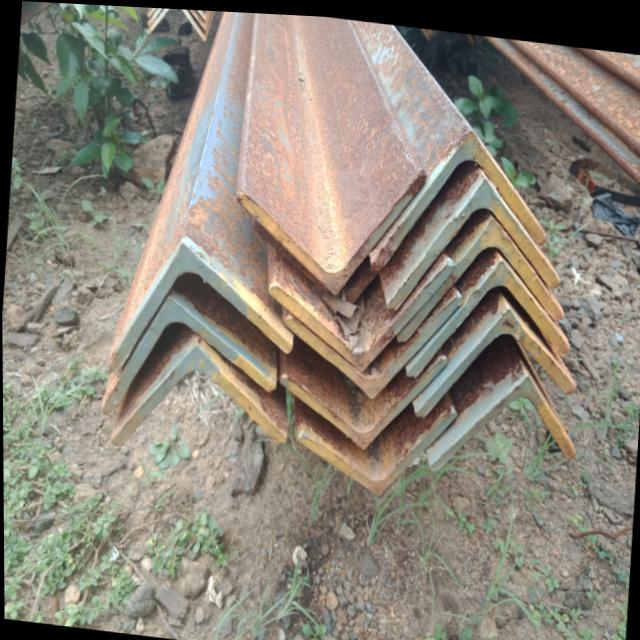metal-angles: (108, 235, 293, 375), (371, 124, 546, 266), (235, 166, 426, 293), (385, 172, 560, 306), (268, 253, 455, 368), (101, 295, 275, 415), (396, 213, 563, 337), (406, 253, 569, 373), (284, 289, 462, 394), (110, 342, 285, 446), (414, 301, 576, 413), (279, 350, 446, 446), (429, 368, 577, 467), (294, 407, 456, 491), (182, 7, 206, 39), (147, 7, 170, 33)
